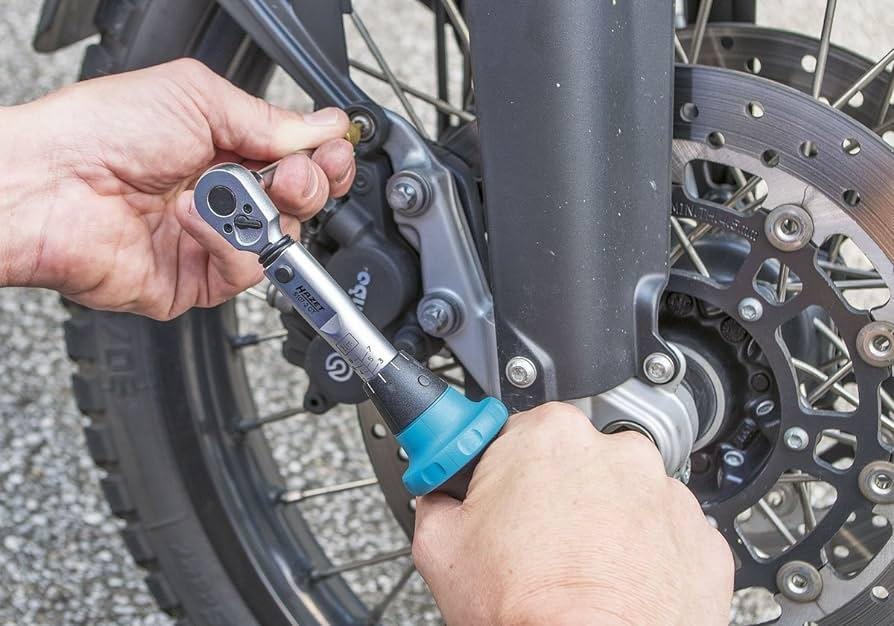Tool: (179, 162, 286, 256)
